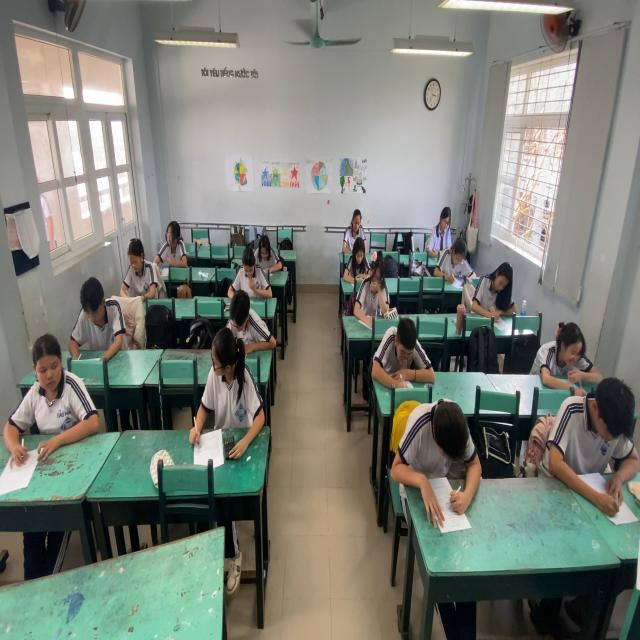cheating: (195, 329, 268, 446)
not_cheating: (553, 381, 640, 520), (9, 340, 93, 430), (402, 392, 476, 474), (367, 316, 439, 384), (534, 322, 598, 392), (69, 278, 120, 346), (474, 261, 522, 319), (122, 233, 159, 305), (359, 246, 392, 322), (155, 215, 188, 278), (221, 284, 262, 333), (439, 236, 475, 284), (254, 226, 281, 281), (237, 239, 262, 294), (344, 236, 373, 281), (427, 201, 456, 246), (340, 201, 369, 243)
